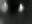person: (3, 2, 10, 16), (19, 4, 25, 14)
